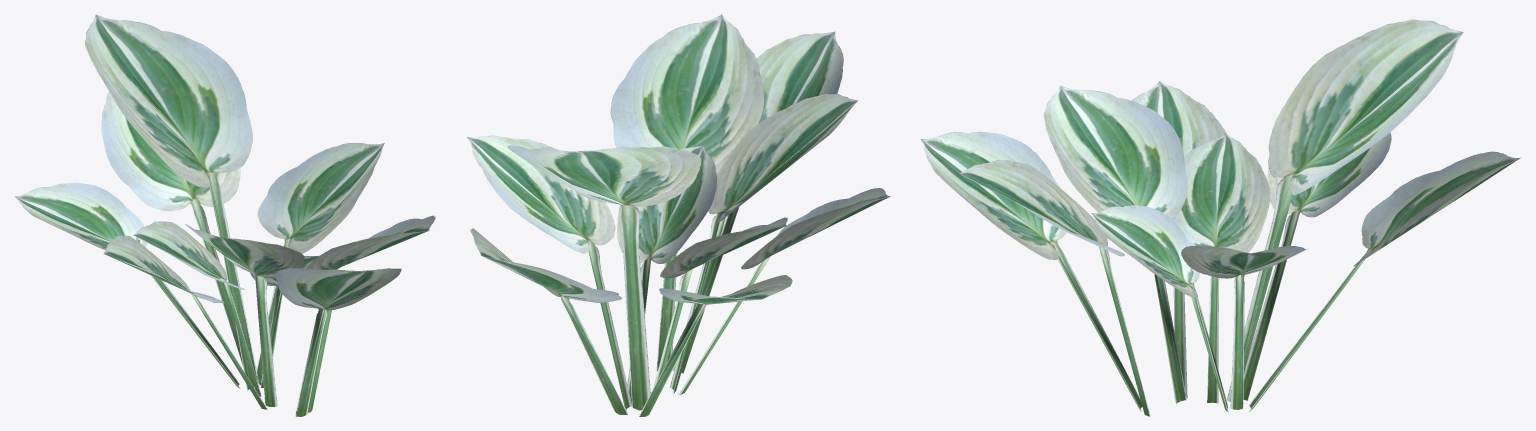
File: plant_small_wg_01O.fbx
The picture shows the model from 3 angles, left to right: view 1: azimuth 30°, elevation 25°; view 2: azimuth 150°, elevation 25°; view 3: azimuth 270°, elevation 25°; orthographic projection. The views are drawn at different scales.
Visible parts, largest first — view 1: plant_small_wg_01O; view 2: plant_small_wg_01O; view 3: plant_small_wg_01O.
Boxes of the visible parts, x1,y1,x2,y2 form: plant_small_wg_01O: (15, 14, 435, 416); plant_small_wg_01O: (467, 14, 890, 416); plant_small_wg_01O: (921, 19, 1520, 416).
Size of the model in its own units: 68.71 by 63.1 by 99.93.
